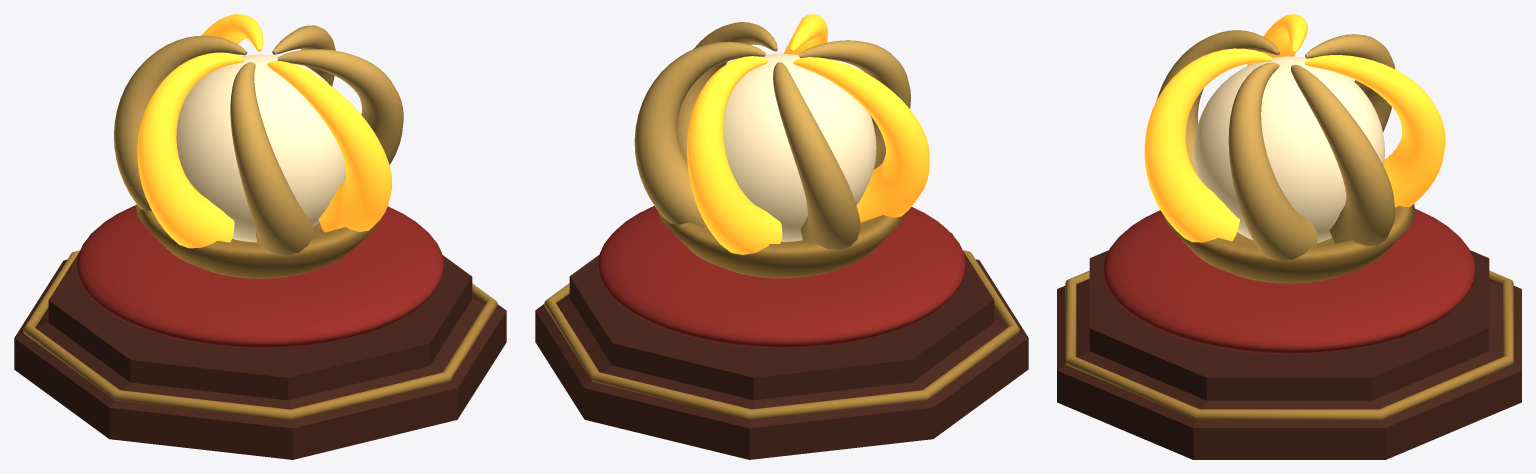
File: dragon-pearl.glb
3 views of the same model, side by side, from view 1: azimuth 30°, elevation 25°; view 2: azimuth 150°, elevation 25°; view 3: azimuth 270°, elevation 25° (orthographic).
Parts seen in each view (by area): view 1: dragon-pearl; view 2: dragon-pearl; view 3: dragon-pearl.
Boxes of the visible parts, x1,y1,x2,y2 form: dragon-pearl: [14, 14, 506, 459]; dragon-pearl: [535, 14, 1028, 459]; dragon-pearl: [1057, 14, 1521, 459].
Bounding box in the file's own units: 0.9239 × 0.6889 × 0.9239.
